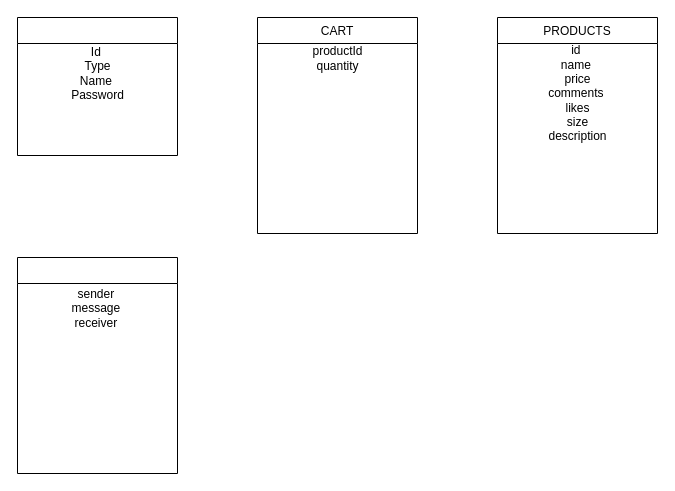
This 675x491 diagram has some shape labels left out. The shapes that lost their labels are listed below. From the top down, each one's box as (x1, y1, x2, y2) in pixels, then its label:
(16, 16, 178, 156): USERS
(16, 256, 178, 474): MESSAGES
